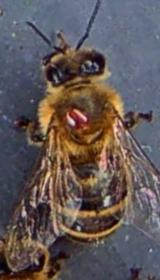varroa_mite: (56, 102, 96, 133)
